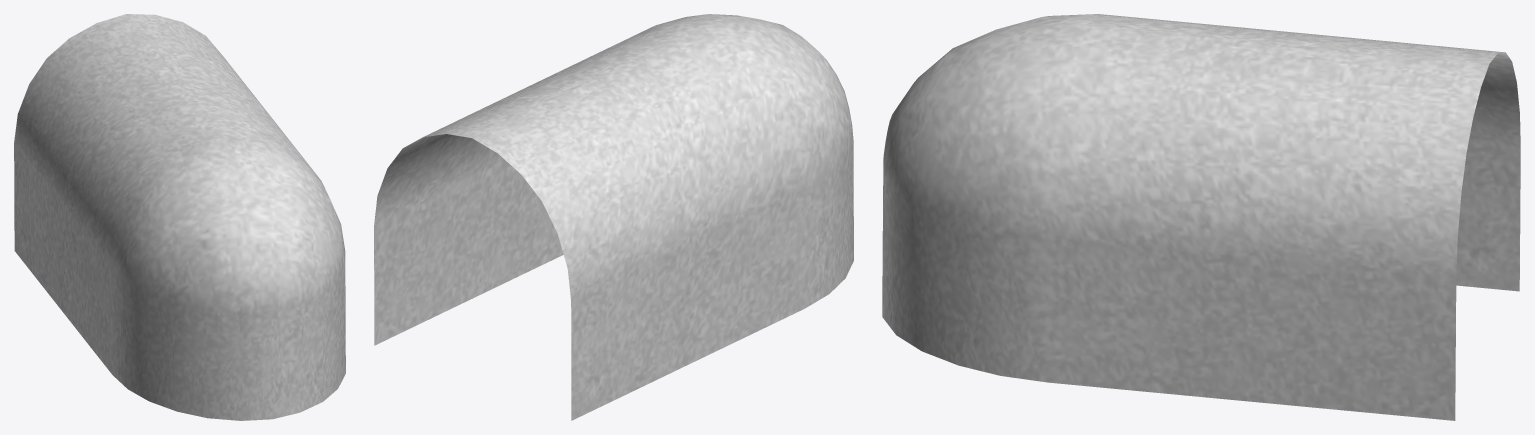
Rendered from pref_sm_garden_bornglass01_lv2.fbx.
3 renders of one model, left to right at view 1: azimuth 30°, elevation 25°; view 2: azimuth 150°, elevation 25°; view 3: azimuth 270°, elevation 25°, orthographic. The views are drawn at different scales.
Visible parts, largest first — view 1: pref_sm_garden_bornglass01_lv2; view 2: pref_sm_garden_bornglass01_lv2; view 3: pref_sm_garden_bornglass01_lv2.
Part boxes in pixels (x1,y1,x2,y2): pref_sm_garden_bornglass01_lv2: (14,14,345,420); pref_sm_garden_bornglass01_lv2: (374,14,853,420); pref_sm_garden_bornglass01_lv2: (882,14,1520,420).
Bounding box in the file's own units: 5.42 × 4.43 × 8.69.
